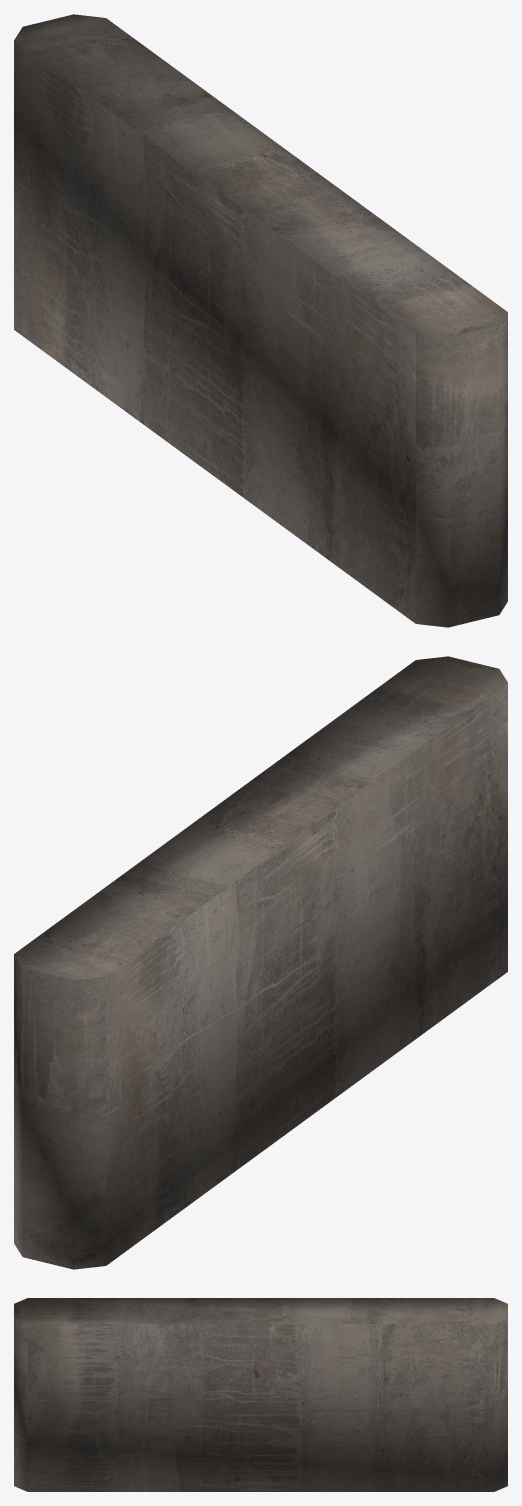
The model's file is Pilar.fbx.
The picture shows the model from 3 angles, top to bottom: view 1: azimuth 30°, elevation 25°; view 2: azimuth 150°, elevation 25°; view 3: azimuth 270°, elevation 25°; orthographic projection. The views are drawn at different scales.
Parts seen in each view (by area): view 1: Pilar; view 2: Pilar; view 3: Pilar.
Part boxes in pixels (x1,y1,x2,y2): Pilar: (14, 14, 507, 627); Pilar: (14, 656, 507, 1269); Pilar: (14, 1298, 507, 1491).
Size of the model in its own units: 200 by 600 by 1600.
1 material, 1 textured.
